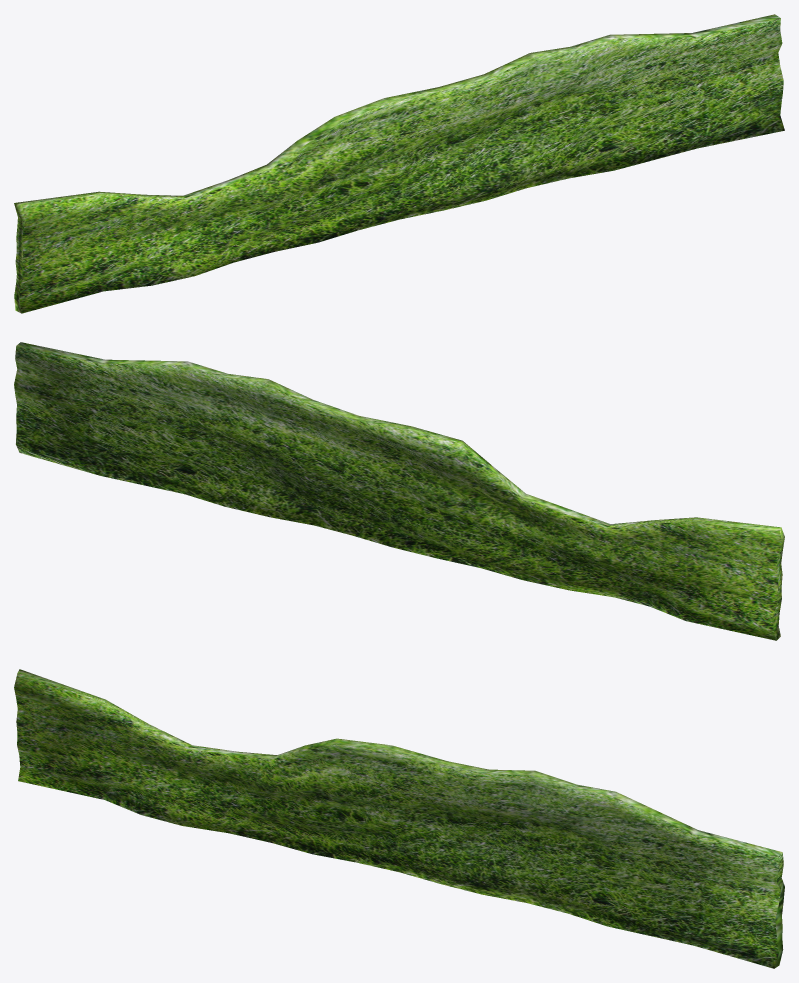
Rendered from grass.obj.
The picture shows the model from 3 angles, top to bottom: view 1: azimuth 30°, elevation 25°; view 2: azimuth 150°, elevation 25°; view 3: azimuth 330°, elevation 25°; orthographic projection.
Parts seen in each view (by area): view 1: Grid.002_Grid.001; view 2: Grid.002_Grid.001; view 3: Grid.002_Grid.001.
Part boxes in pixels (x1,y1,x2,y2): Grid.002_Grid.001: (14, 14, 784, 313); Grid.002_Grid.001: (14, 342, 784, 640); Grid.002_Grid.001: (14, 669, 784, 968).
Size of the model in its own units: 7.07 by 1.18 by 0.2237.
